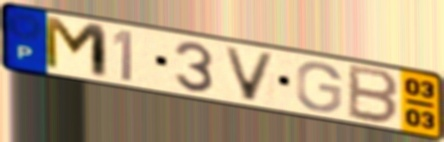1: (111, 29, 134, 83)
3: (171, 40, 217, 94)
B: (345, 62, 402, 127)
G: (294, 60, 344, 114)
M: (41, 13, 112, 82)
V: (221, 44, 280, 104)
